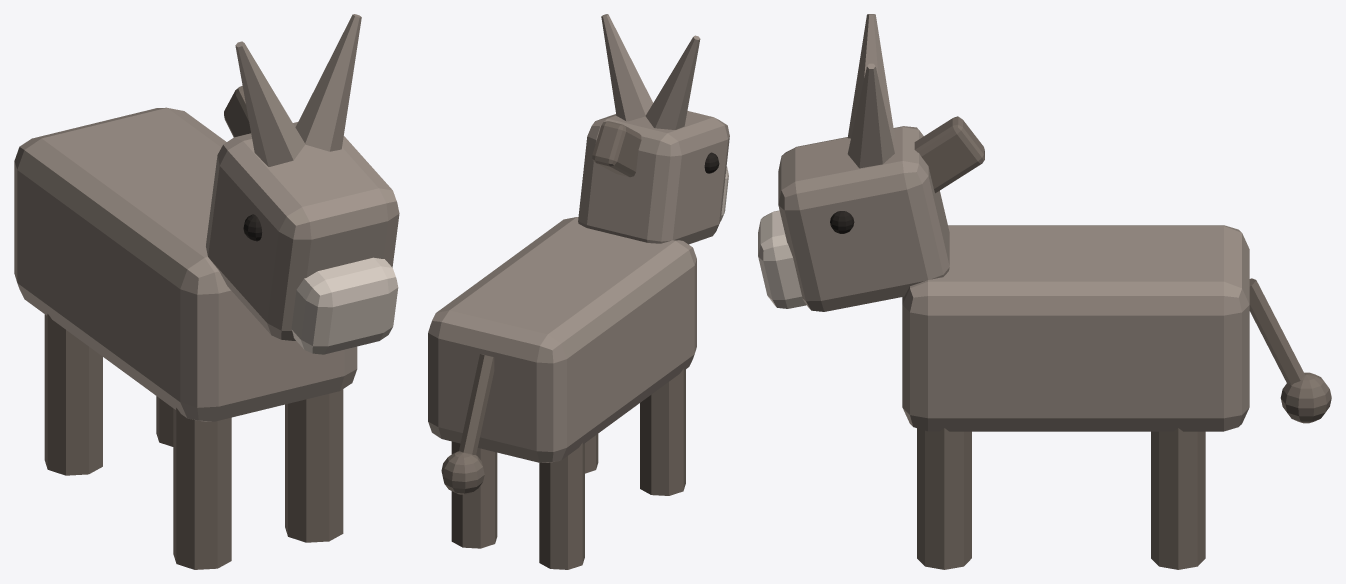
Rendered from donkey.glb.
3 renders of one model, left to right at view 1: azimuth 30°, elevation 25°; view 2: azimuth 150°, elevation 25°; view 3: azimuth 270°, elevation 25°, orthographic. The views are drawn at different scales.
Parts seen in each view (by area): view 1: Donkey, LegFL, LegFR, LegBL, EarR, EarL, LegBR; view 2: Donkey, LegBL, LegFL, LegBR, EarR, EarL, LegFR; view 3: Donkey, LegFR, LegBR, EarR, EarL.
Part boxes in pixels (x1=…): Donkey: x1=14, y1=85, x2=399, y2=421; LegFL: x1=173, y1=408, x2=231, y2=569; LegFR: x1=285, y1=389, x2=343, y2=542; LegBL: x1=44, y1=314, x2=102, y2=475; EarR: x1=295, y1=14, x2=361, y2=151; EarL: x1=235, y1=41, x2=305, y2=166; LegBR: x1=156, y1=396, x2=173, y2=446; Donkey: x1=428, y1=111, x2=729, y2=494; LegBL: x1=539, y1=443, x2=584, y2=569; LegFL: x1=640, y1=369, x2=685, y2=495; LegBR: x1=451, y1=441, x2=497, y2=548; EarR: x1=601, y1=14, x2=652, y2=121; EarL: x1=645, y1=35, x2=700, y2=129; LegFR: x1=585, y1=434, x2=598, y2=473; Donkey: x1=758, y1=116, x2=1331, y2=431; LegFR: x1=917, y1=428, x2=971, y2=569; LegBR: x1=1151, y1=428, x2=1205, y2=569; EarR: x1=847, y1=63, x2=894, y2=168; EarL: x1=847, y1=14, x2=894, y2=138.
Bounding box in the file's own units: 0.5 × 1.49 × 1.57.
